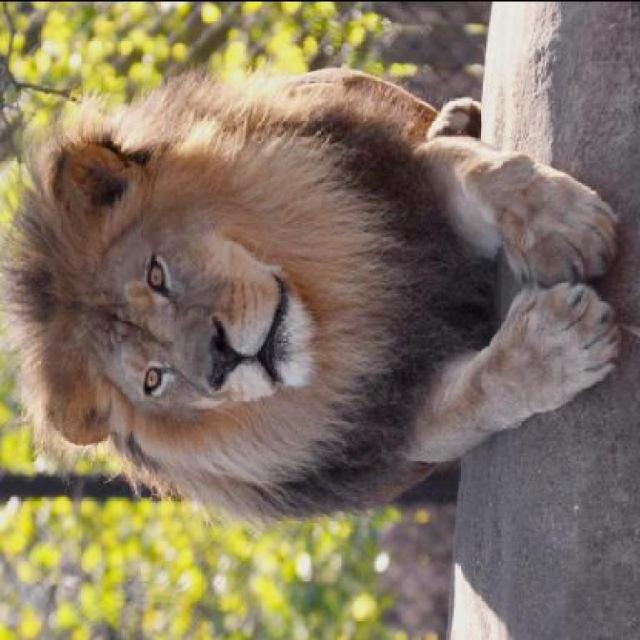Lion: (9, 49, 638, 545)
